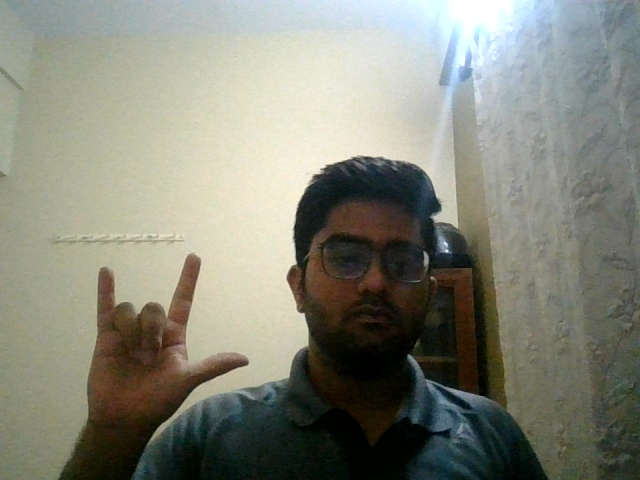I Love You: (69, 245, 256, 458)
